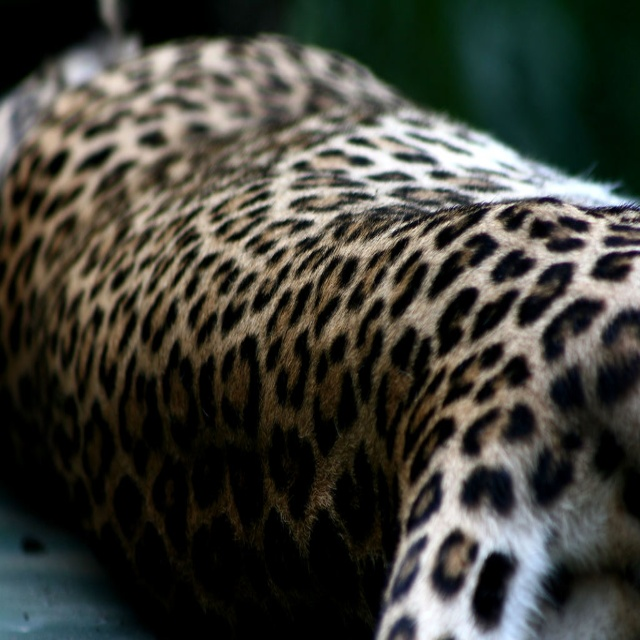Leopard: (0, 31, 640, 639)
